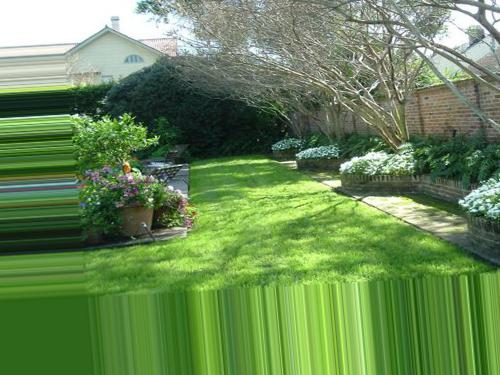patch: (380, 191, 434, 226), (443, 213, 470, 233), (319, 170, 332, 180), (288, 157, 300, 166)
